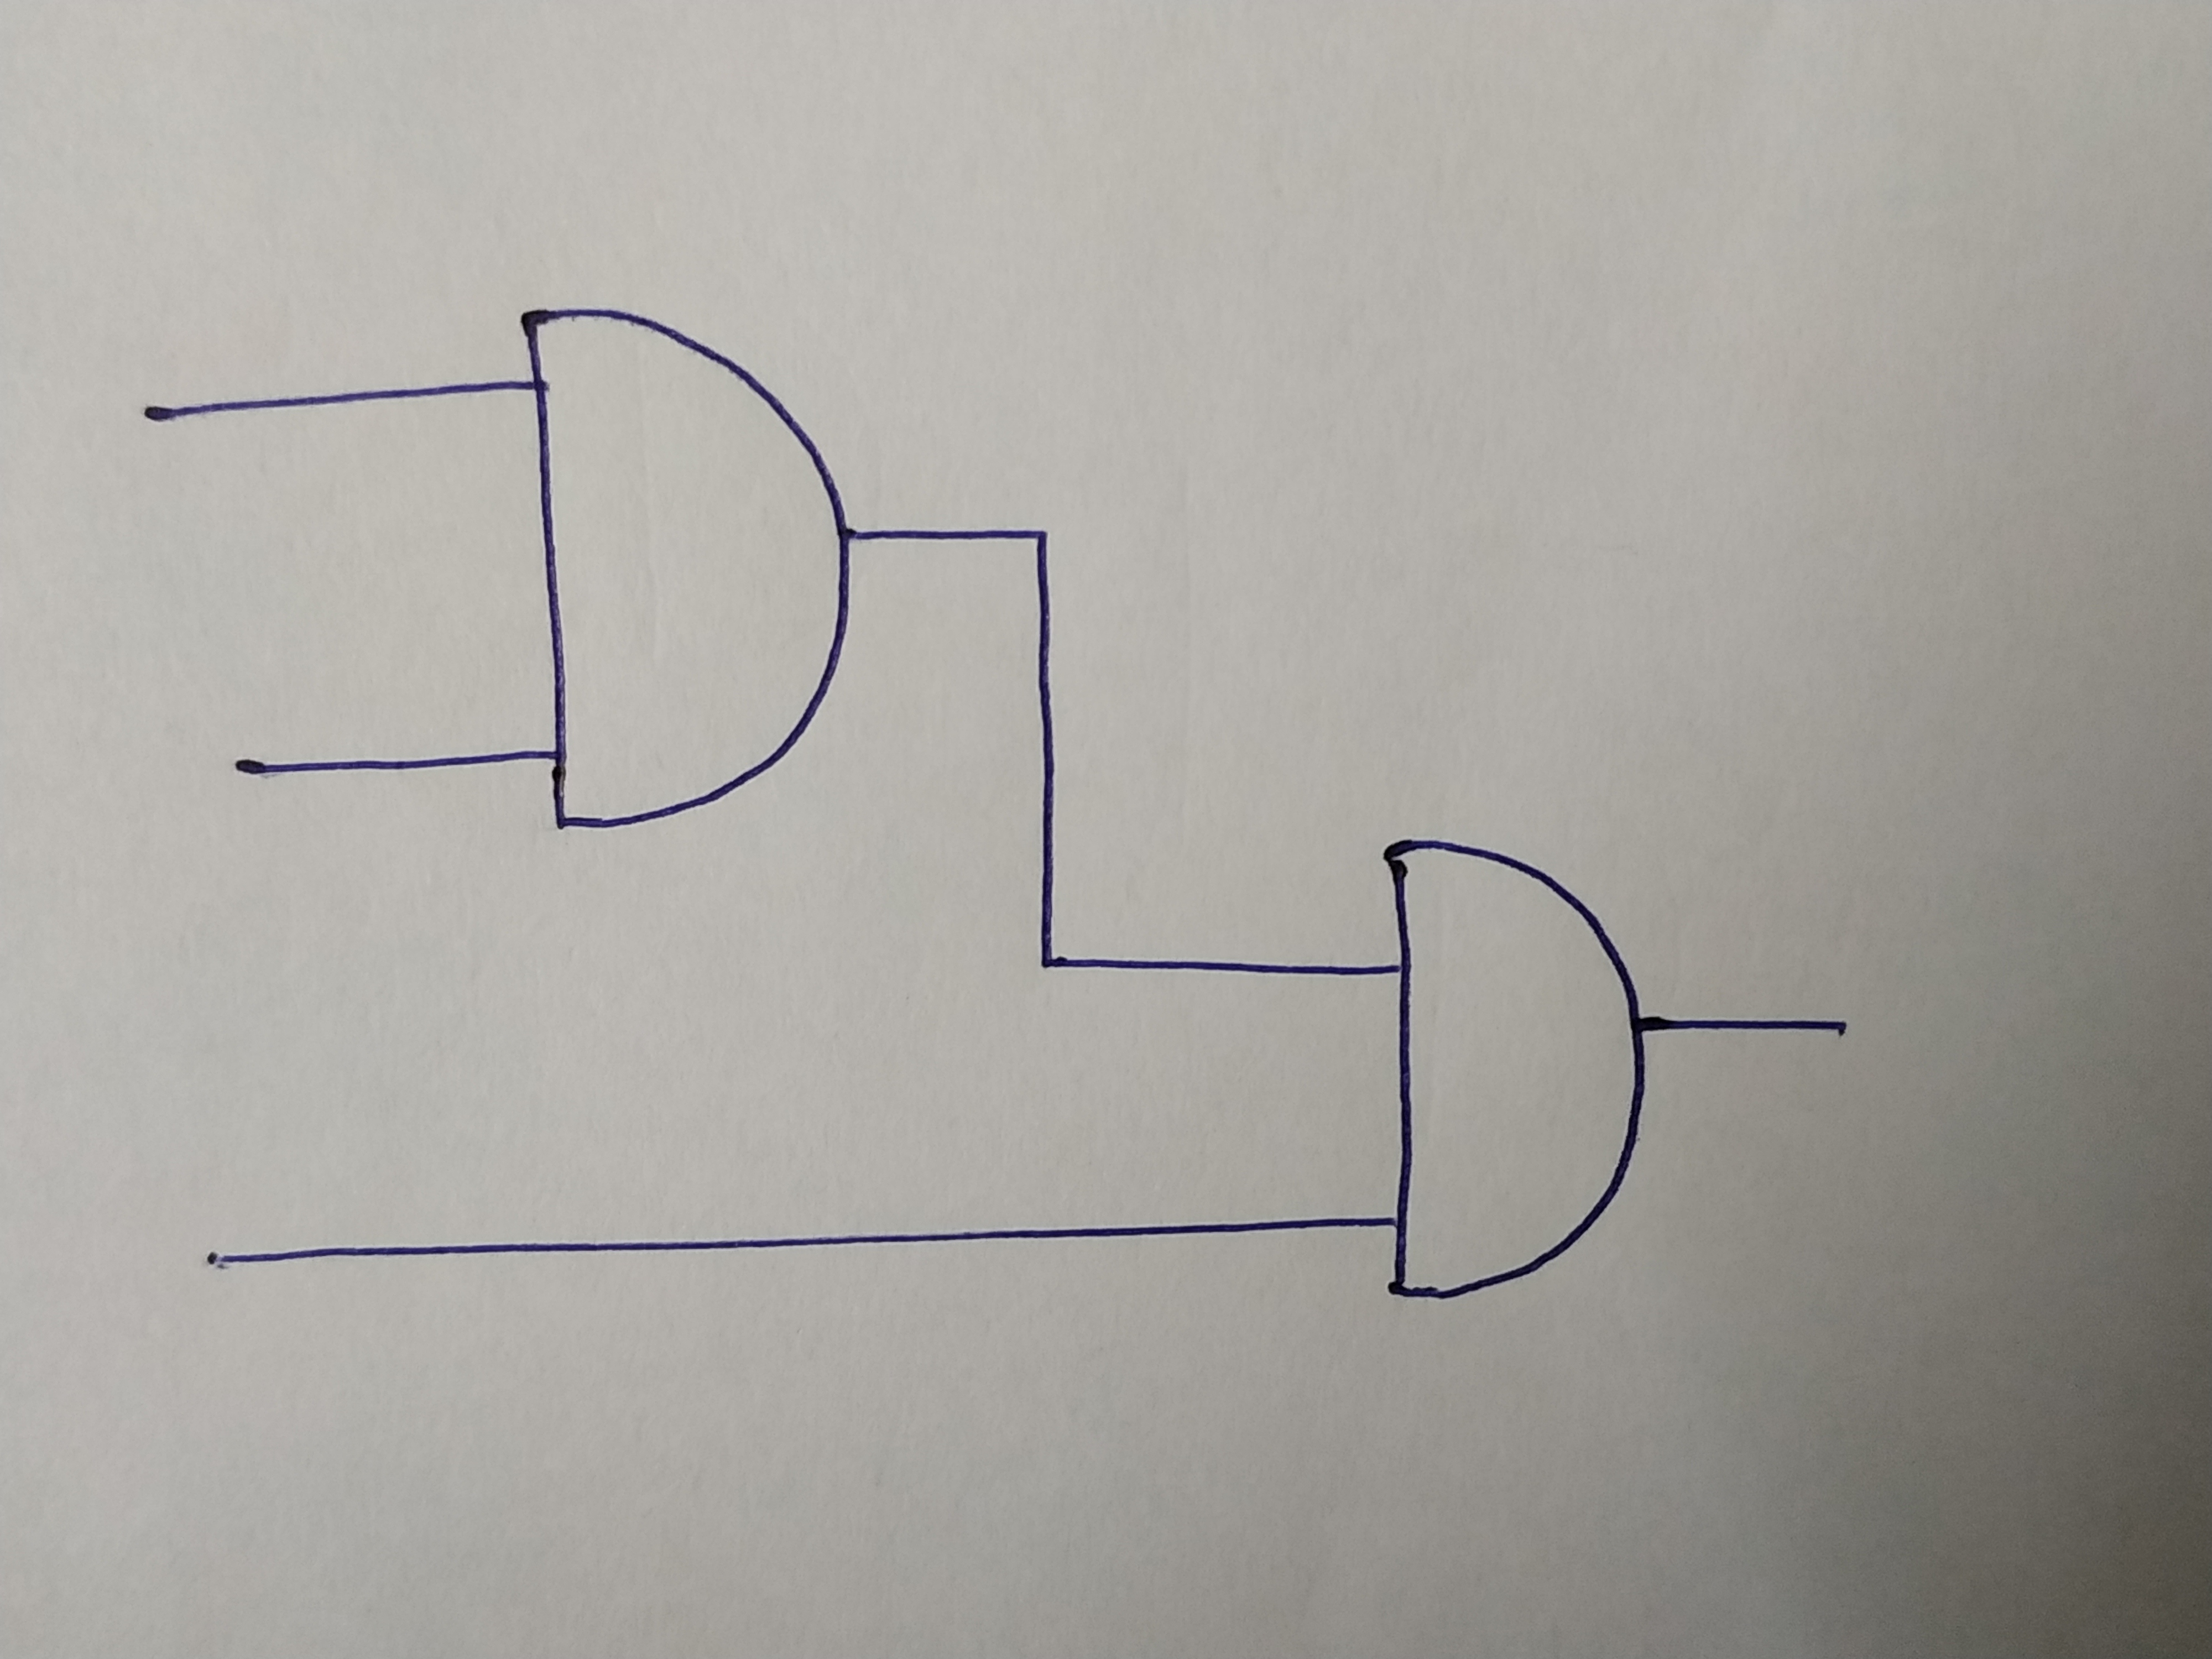and: (521, 303, 846, 828), (1392, 833, 1646, 1300)
